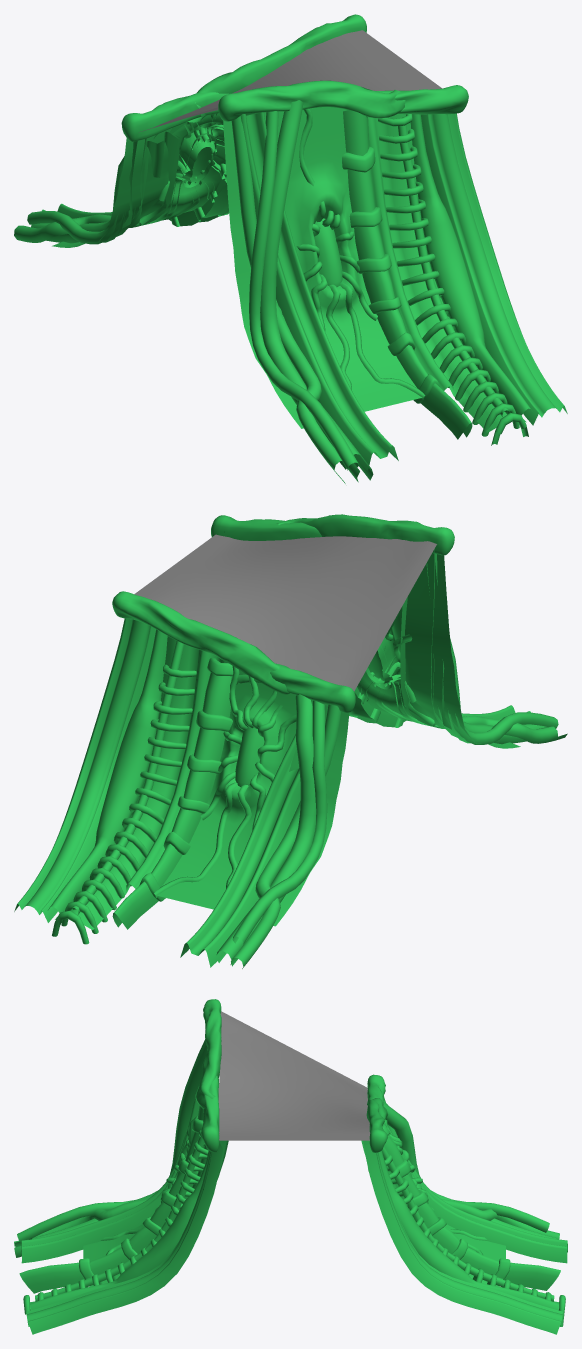
The model's file is Track_alien_11.fbx.
3 renders of one model, top to bottom at view 1: azimuth 30°, elevation 25°; view 2: azimuth 150°, elevation 25°; view 3: azimuth 270°, elevation 25°, orthographic. The views are drawn at different scales.
Visible parts, largest first — view 1: Side_Rock_010, Road_012; view 2: Side_Rock_010, Road_012; view 3: Side_Rock_010, Road_012.
Part boxes in pixels (x1,y1,x2,y2): Side_Rock_010: (14,14,567,483); Road_012: (139,30,442,132); Side_Rock_010: (14,514,567,968); Road_012: (134,534,436,691); Side_Rock_010: (14,999,567,1334); Road_012: (218,1011,370,1140).
Size of what is drawn, in the model's own units: 3398 by 7700 by 3867.
